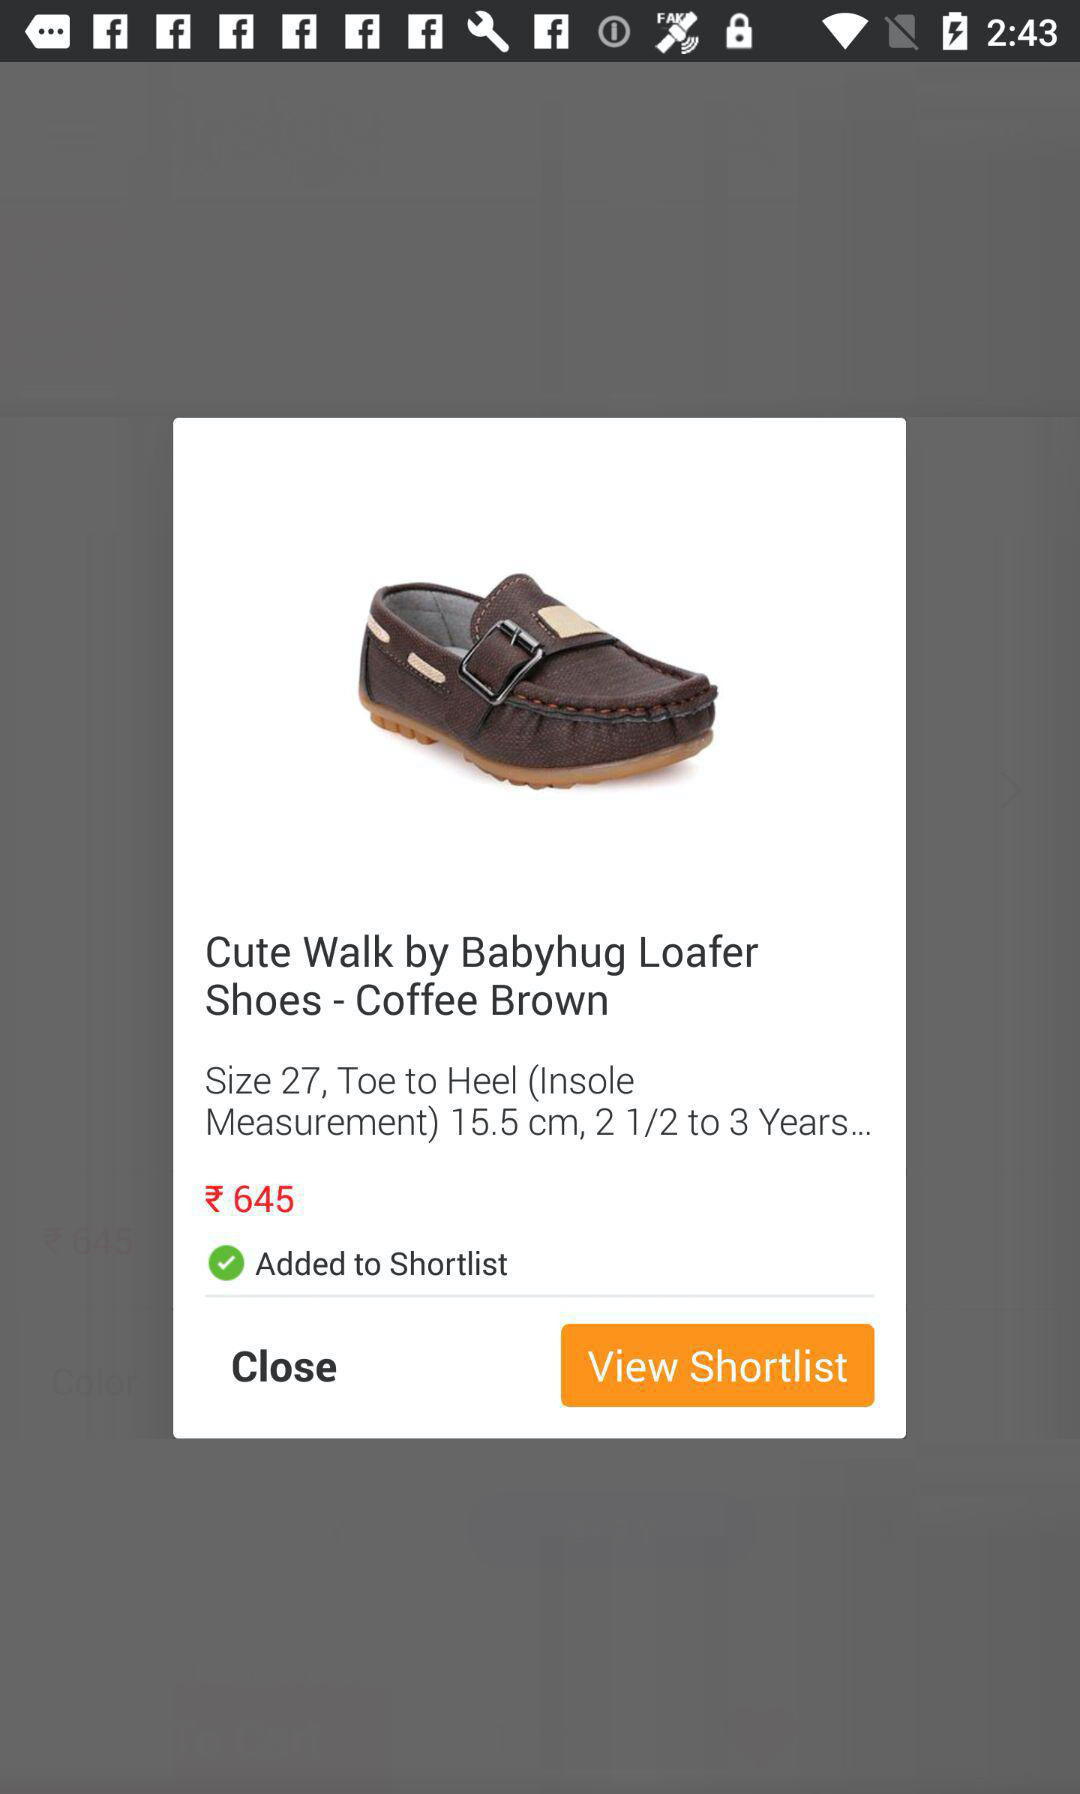CheckedTextView: (209, 1246, 509, 1281)
Image: (359, 573, 720, 789)
Modal: (174, 418, 907, 1439)
Text: (206, 1066, 870, 1140), (206, 933, 758, 1017), (256, 1249, 509, 1278), (233, 1349, 338, 1383), (205, 1187, 295, 1212)
TextButton: (561, 1324, 876, 1408)
UpperTaskBar: (1, 1, 1080, 64)
